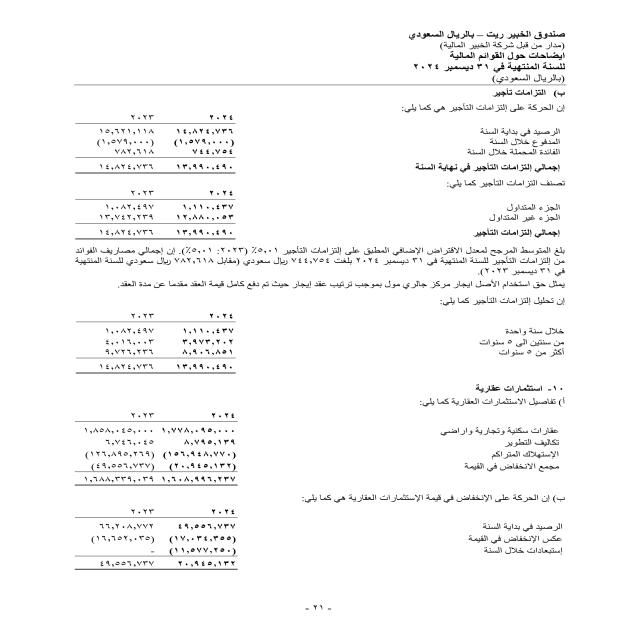notes: (431, 50, 572, 61)
table: (57, 100, 248, 247), (58, 398, 256, 492), (54, 501, 245, 582), (64, 304, 244, 380)
